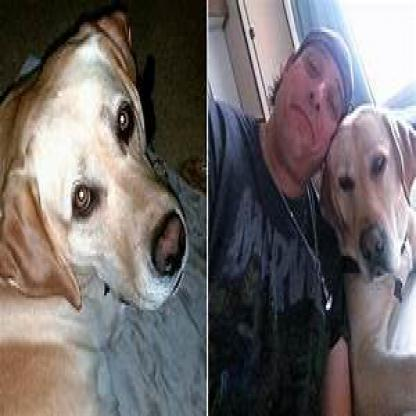dog: (3, 29, 186, 340), (322, 110, 414, 414)
